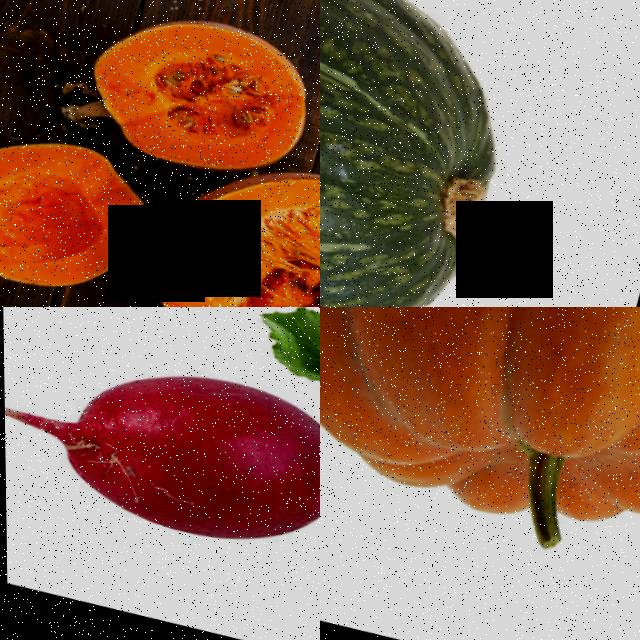pumpkin: (320, 307, 640, 605), (320, 0, 545, 307), (77, 0, 320, 198), (115, 141, 320, 307), (0, 107, 167, 307)
radishes: (5, 307, 320, 615)
